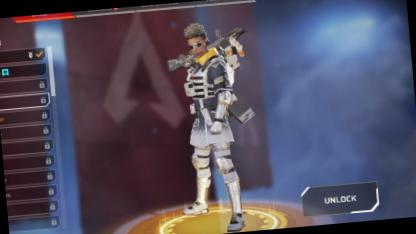Target: (178, 20, 226, 169)
